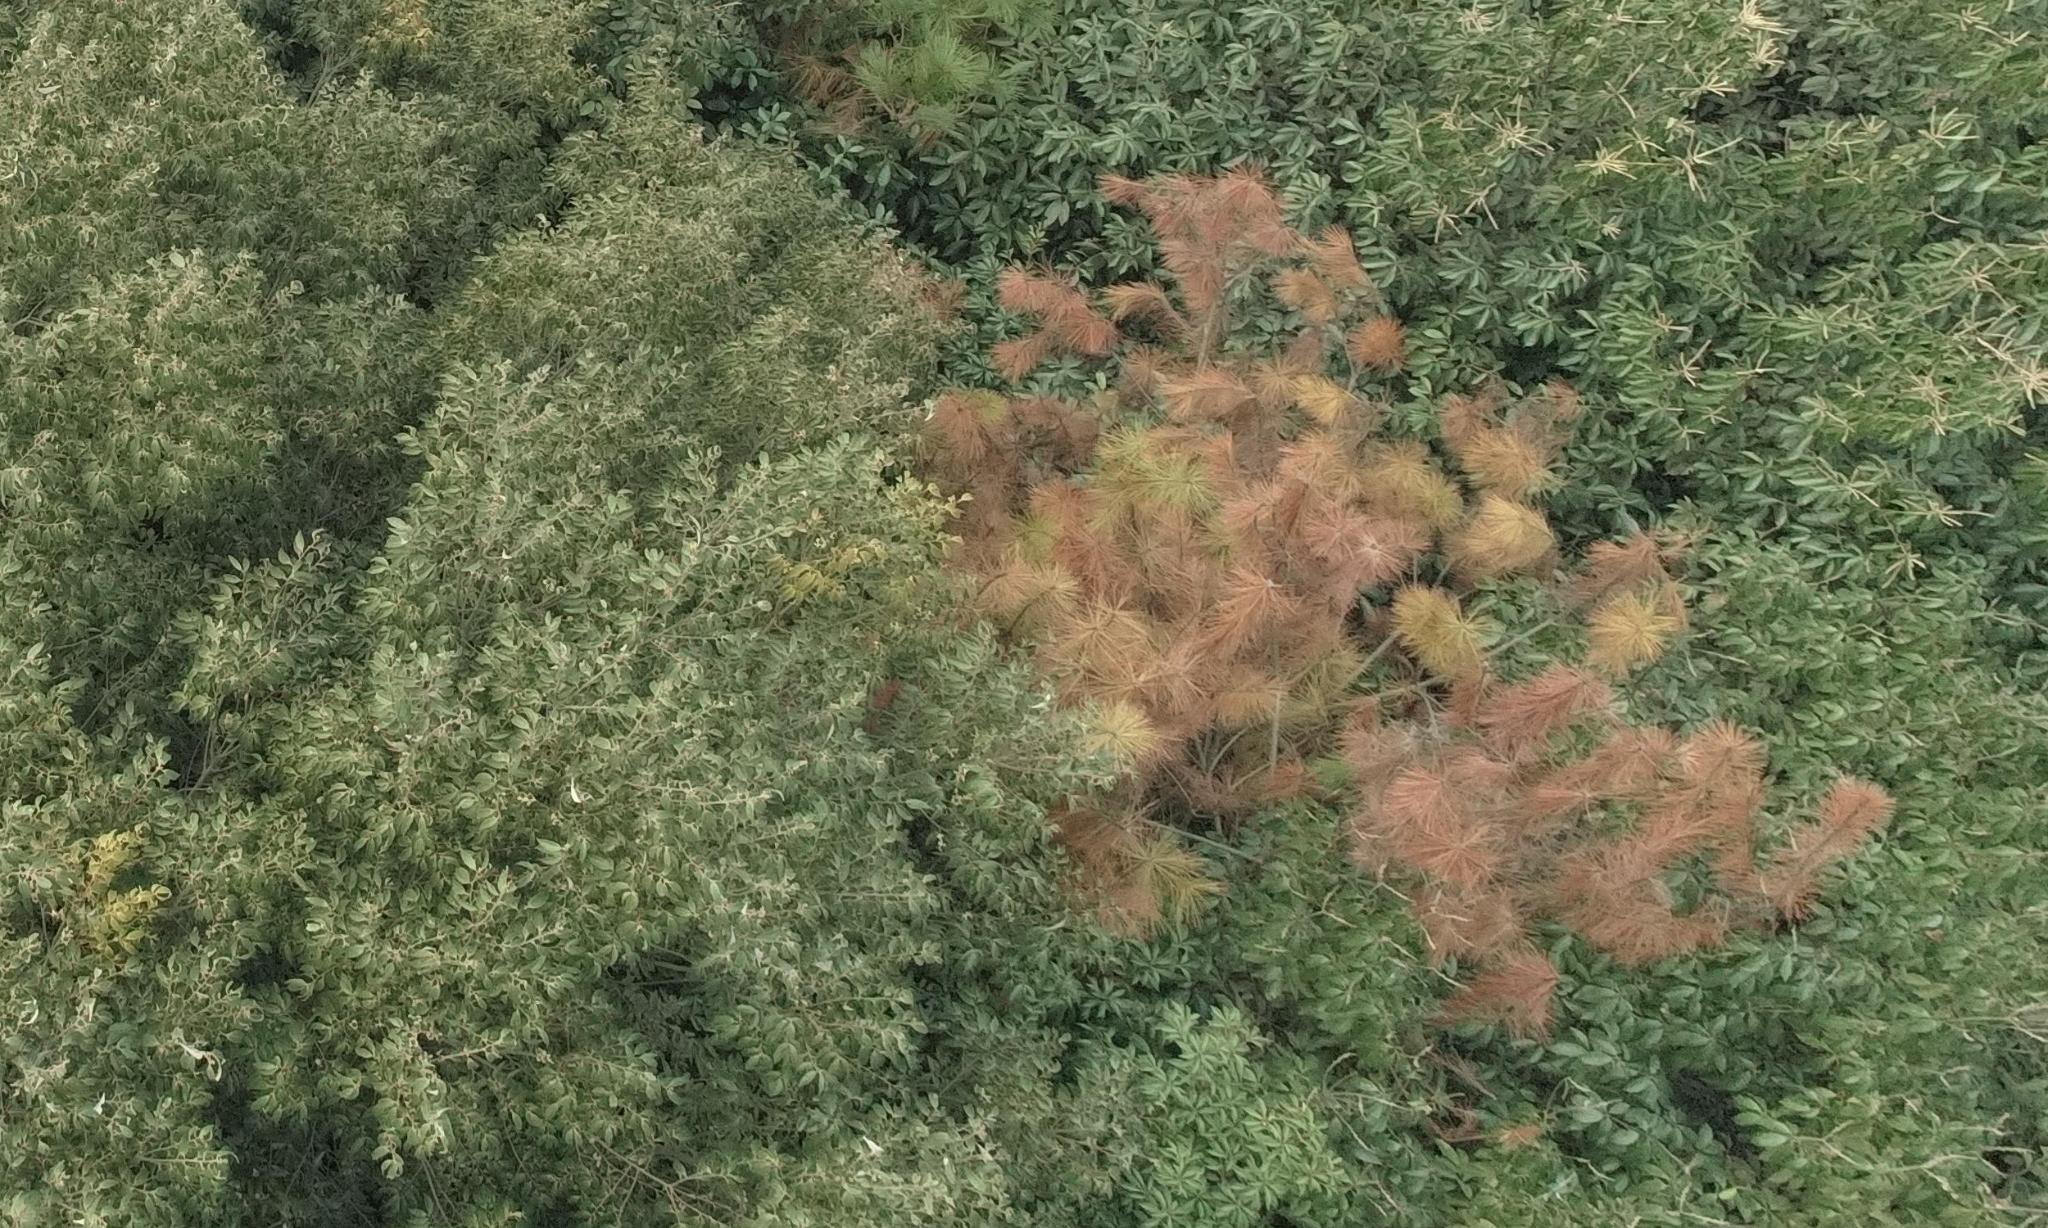heavy: (917, 177, 1548, 712), (1292, 532, 1864, 997)
